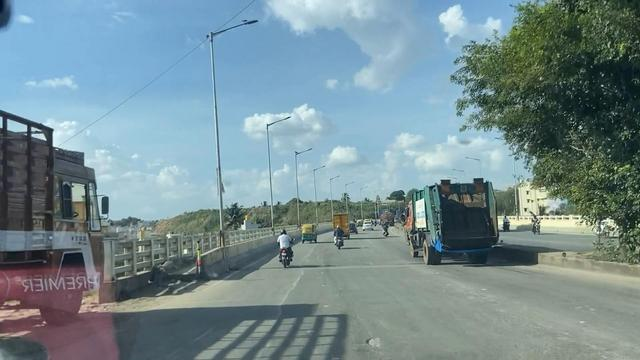HMV: (0, 108, 131, 331), (396, 169, 500, 269)
RoadDamages: (354, 326, 397, 357)
